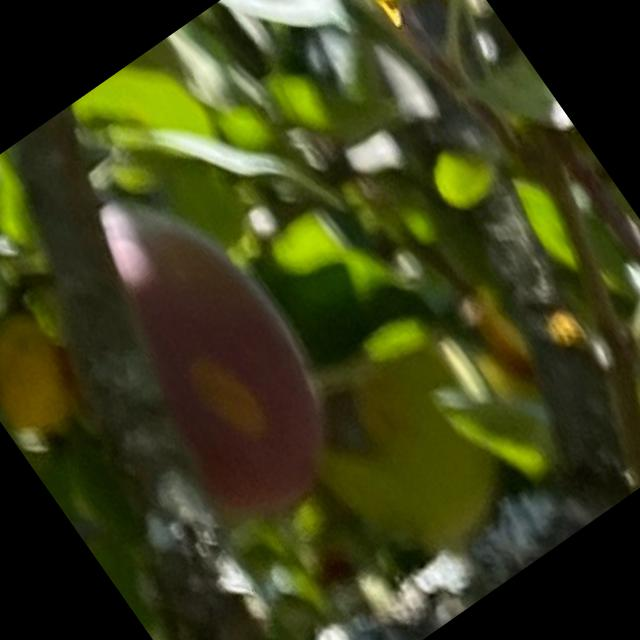Apples: (0, 155, 376, 577)
